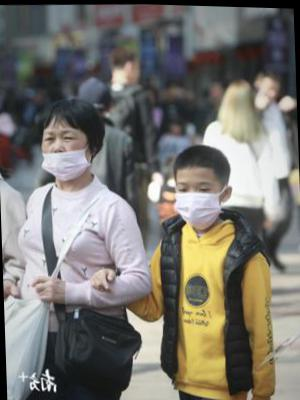OK: (175, 176, 224, 231)
WRONG: (40, 123, 95, 184)
